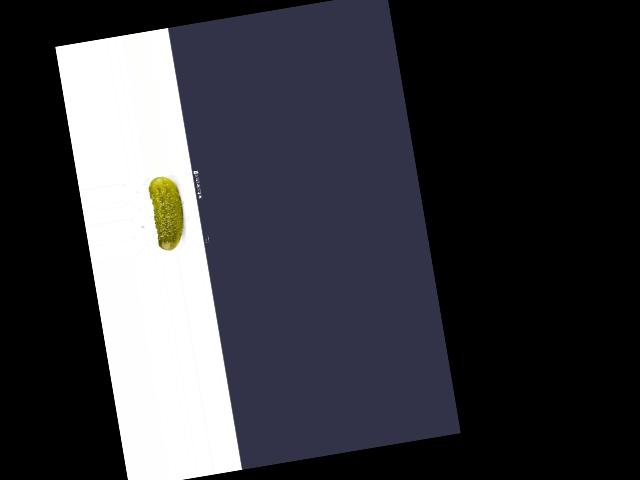cucumber: (147, 174, 189, 253)
